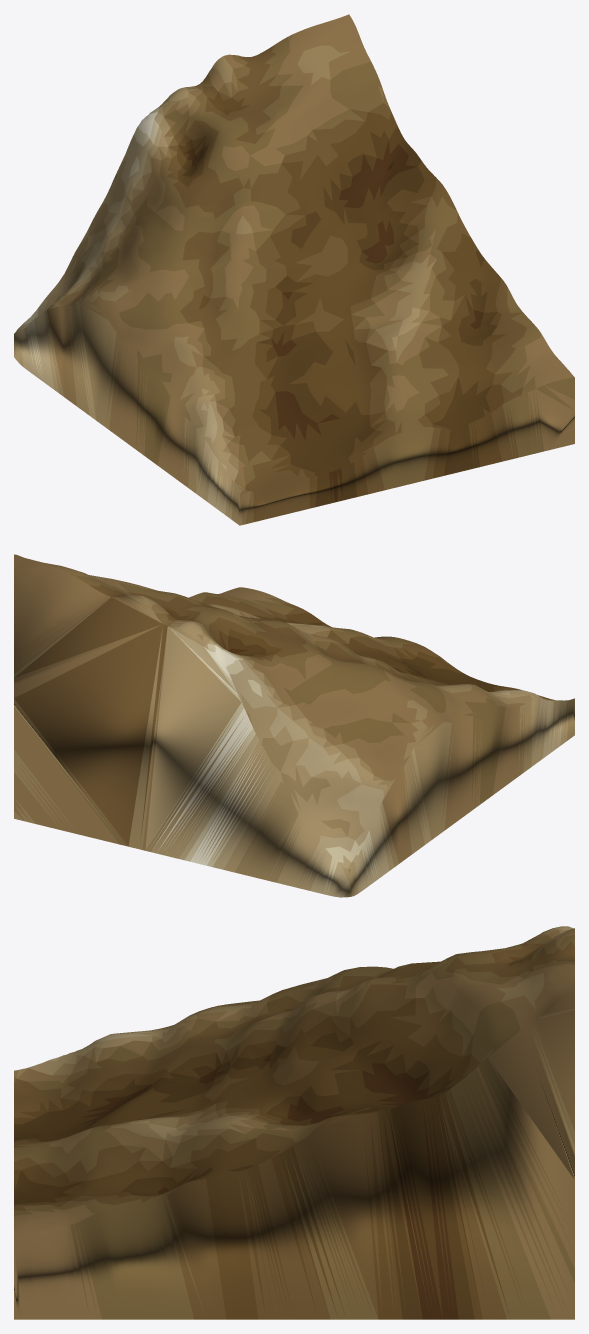
Rendered from rock_arch_200.glb.
3 views of the same model, one above another, from view 1: azimuth 30°, elevation 25°; view 2: azimuth 150°, elevation 25°; view 3: azimuth 270°, elevation 25° (orthographic). The views are drawn at different scales.
Visible parts, largest first — view 1: rock_arch_200; view 2: rock_arch_200; view 3: rock_arch_200.
Boxes of the visible parts, x1=… form: rock_arch_200: x1=14, y1=14, x2=574, y2=525; rock_arch_200: x1=14, y1=554, x2=574, y2=897; rock_arch_200: x1=14, y1=926, x2=574, y2=1319.
Bounding box in the file's own units: 24 × 18.09 × 28.
